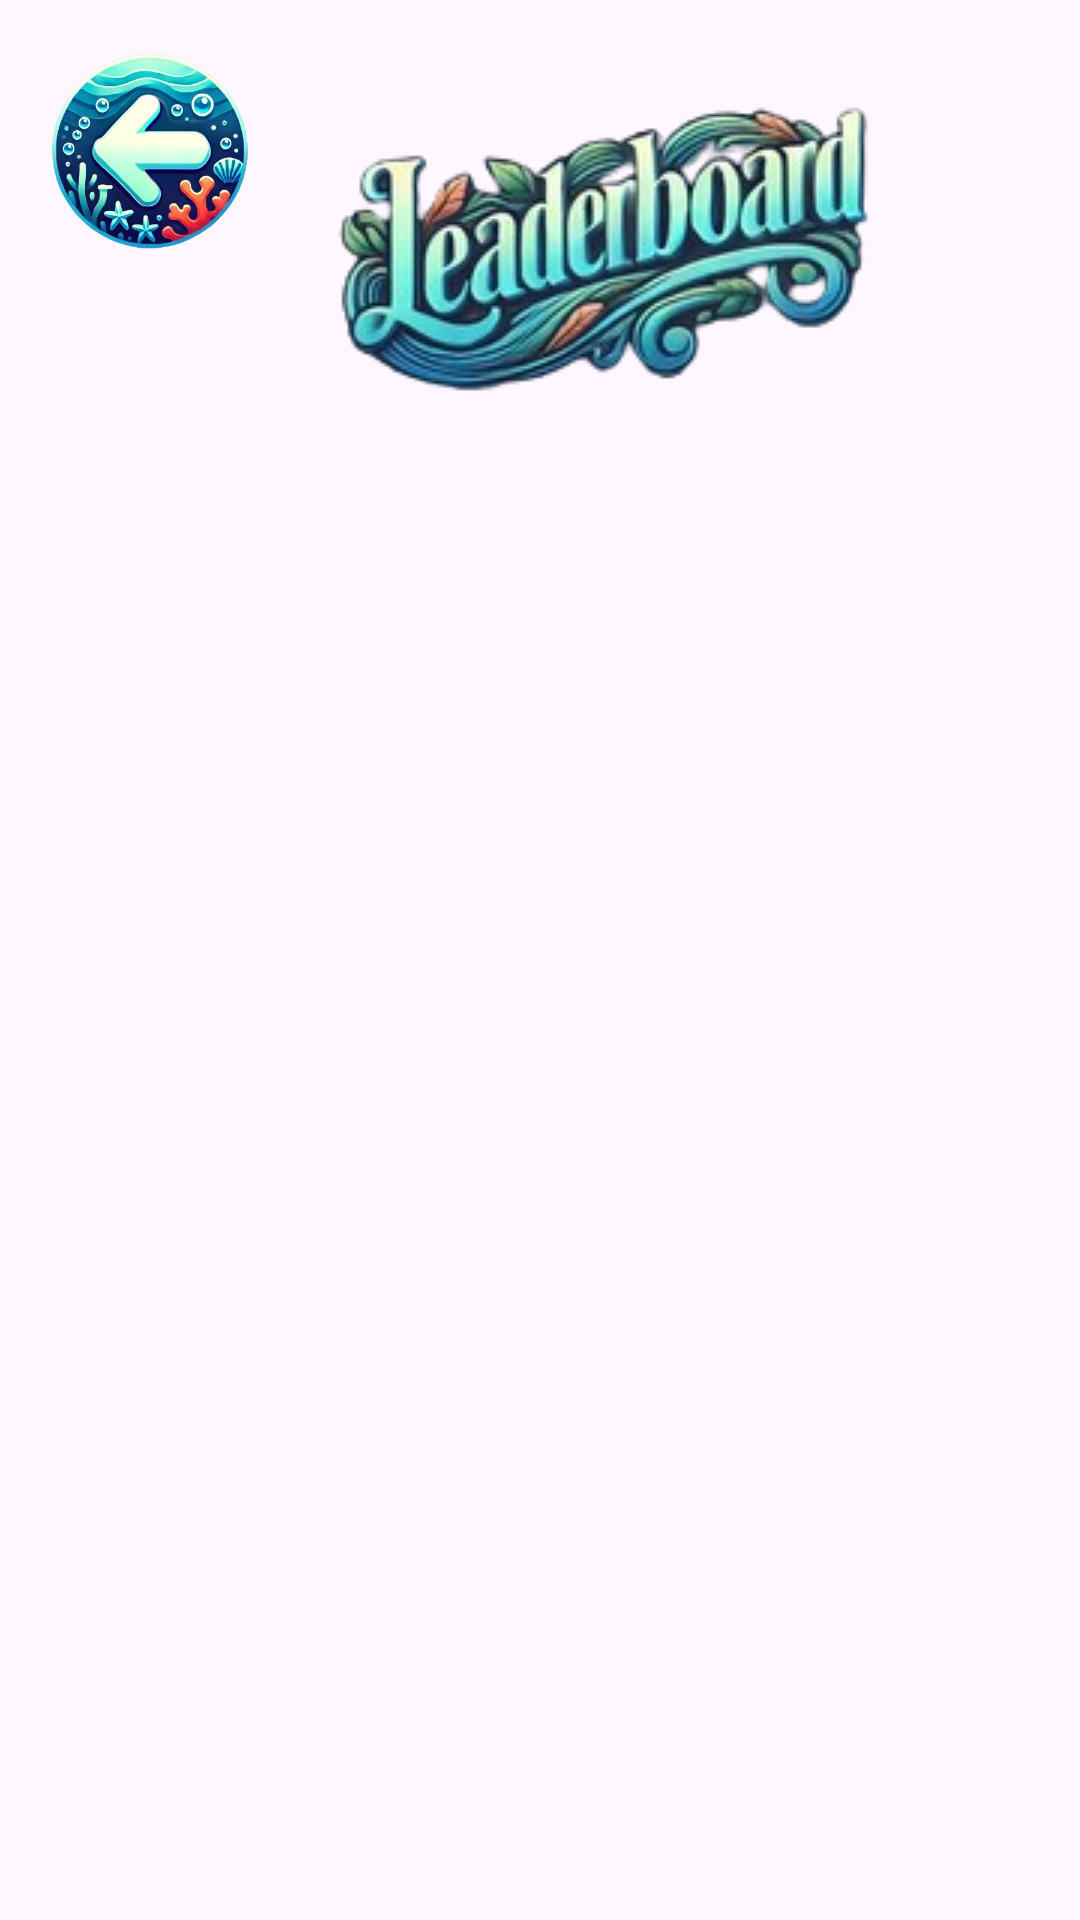

Icons on this 1080×1920 Android screen, each with the point to tap as (x,y):
return: (150,151)
